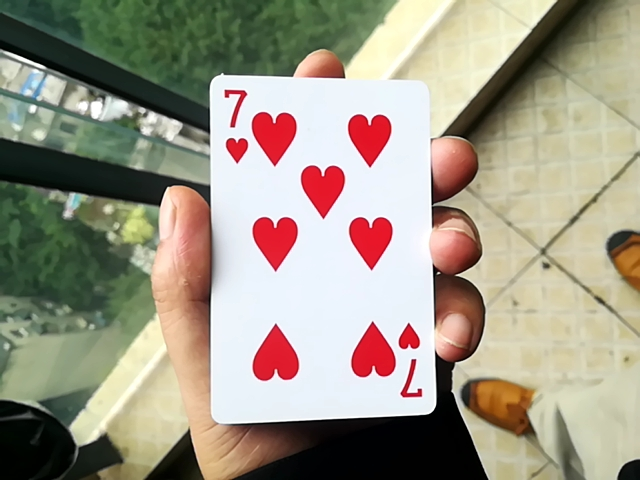hx 7: (195, 59, 428, 431)
